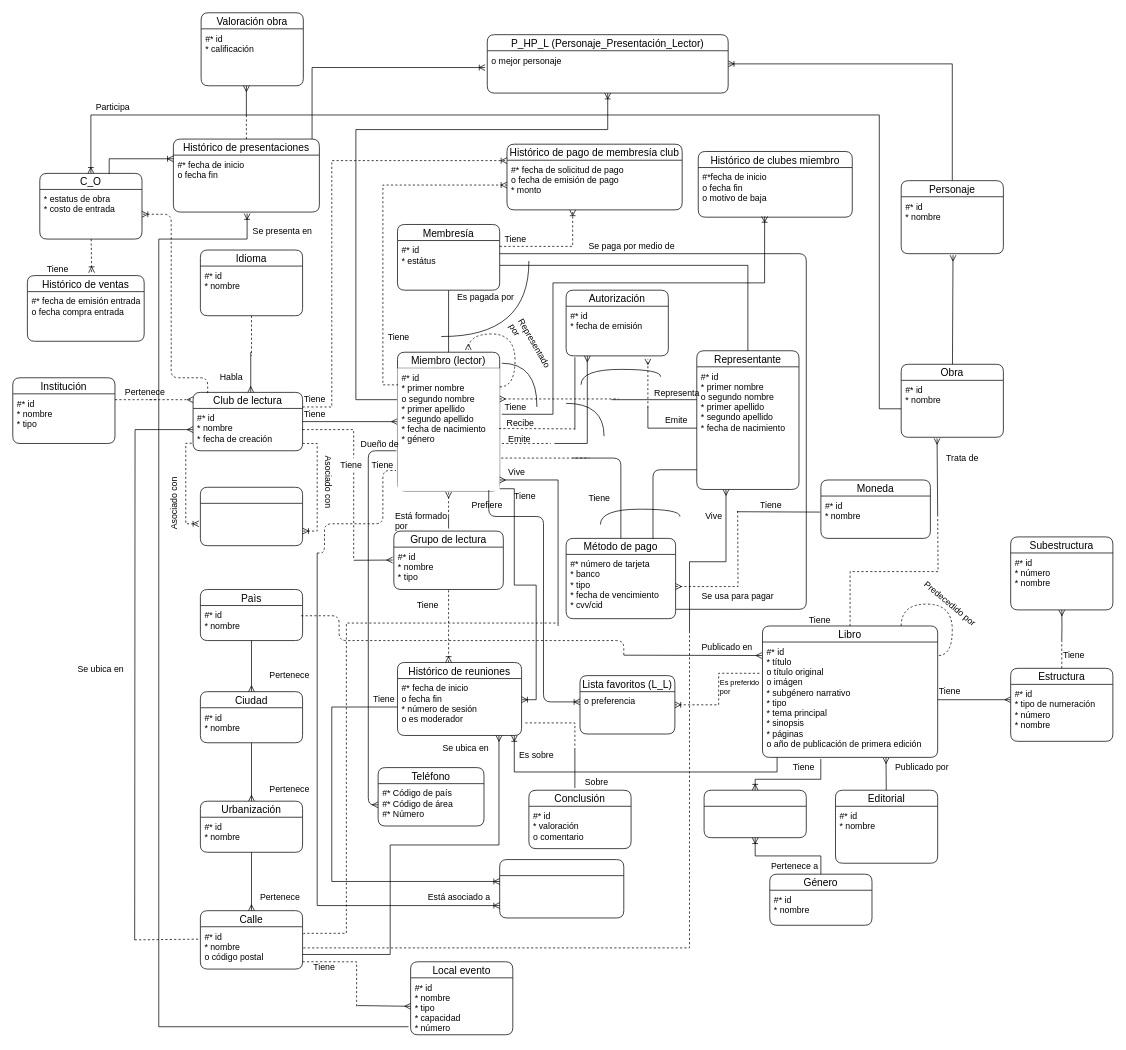
The diagram is 1126 pixels wide and 1050 high, and some of its shapes have lost their labels. Each missing label, with the centre of its shape:
"C_C" goes at (251,516).
"Control de asistencia" goes at (561,888).
"G_L" goes at (754,813).
